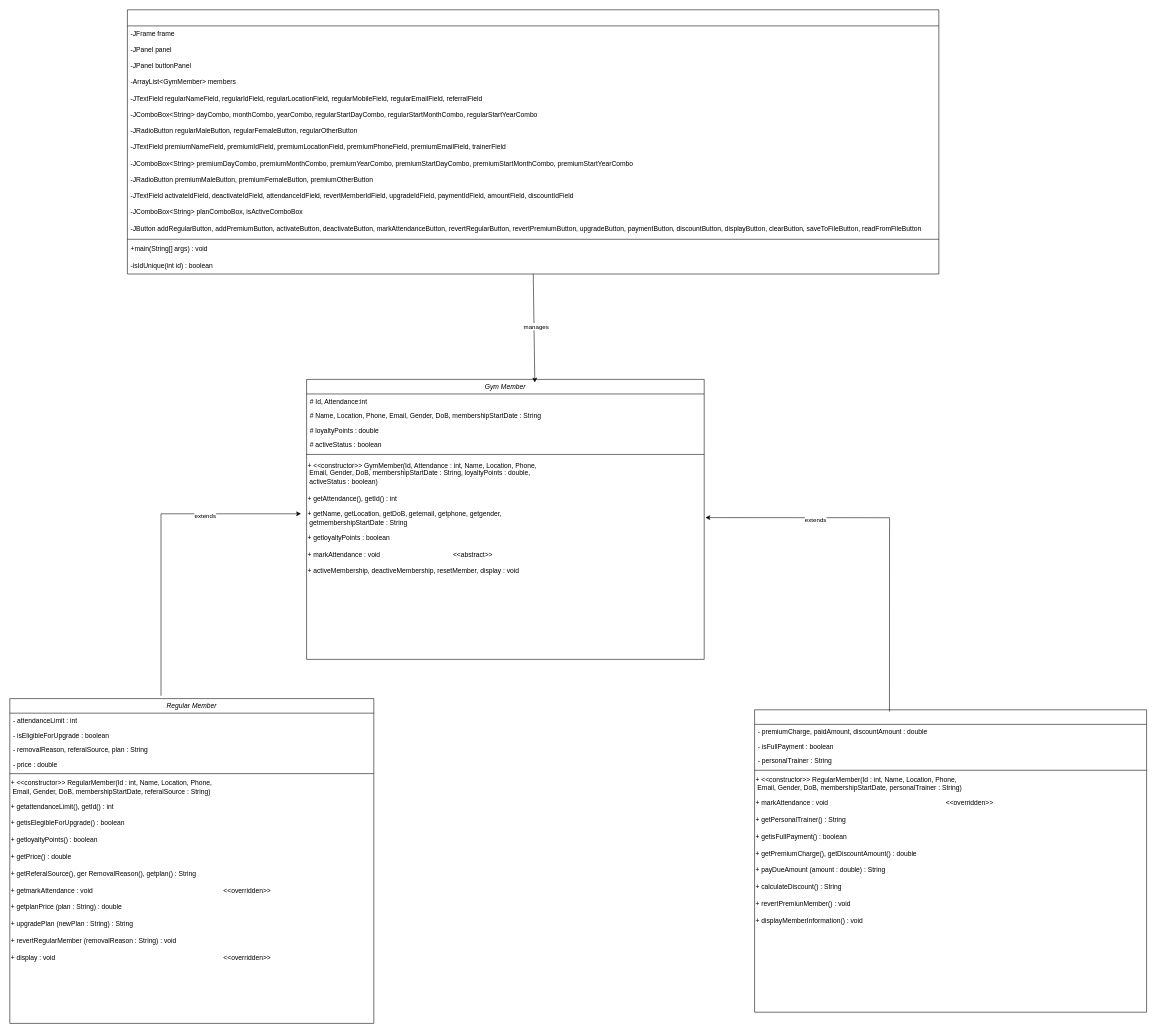
Some shapes in this 1156 by 1033 pixel diagram are drawn without their labels. The box of each missing label's shape, as (x1, y1, x2, y2) in pixels:
GymGUI: (127, 9, 939, 274)
Premium Member: (754, 709, 1147, 1012)
